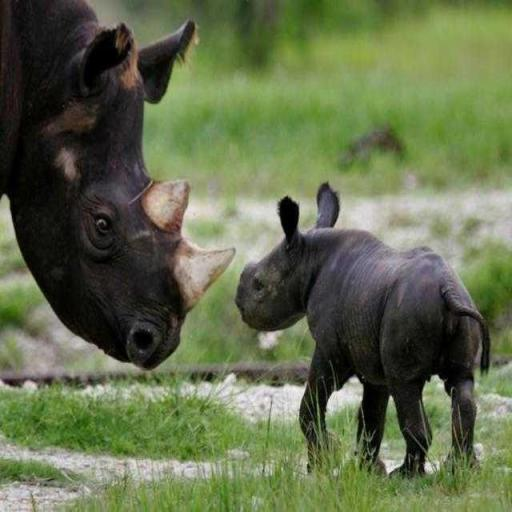Rhino: (0, 0, 236, 371), (234, 179, 491, 482)
